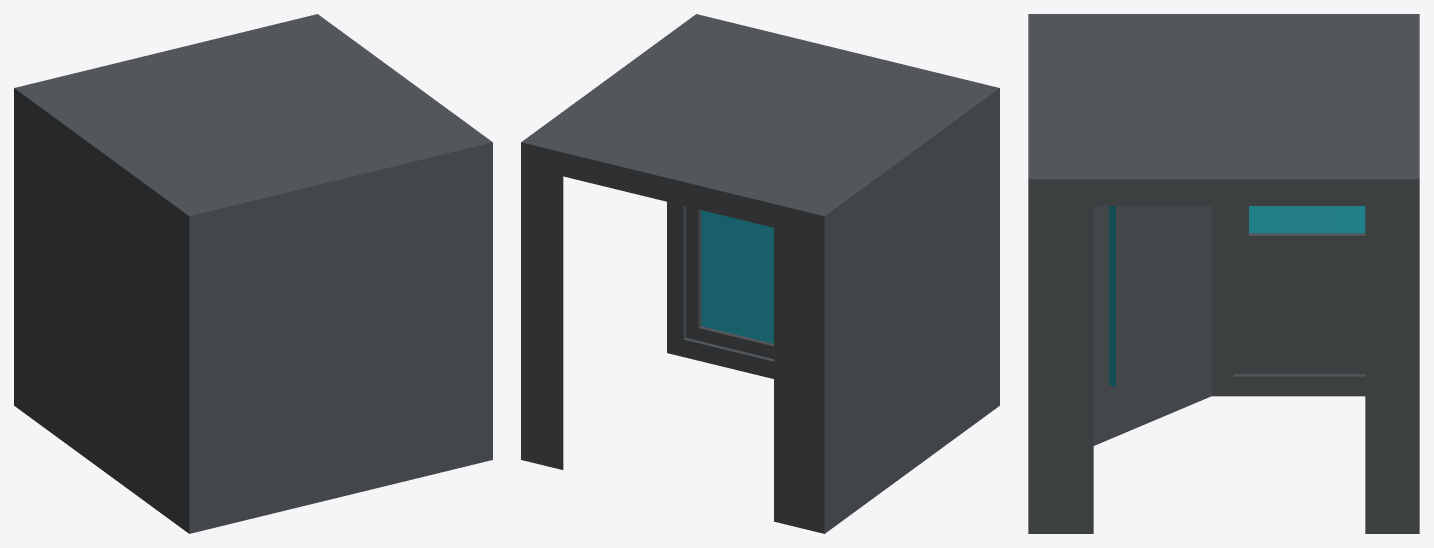
Rendered from EspacioContenidoScrollGiroBajoNI.gltf.
3 views of the same model, side by side, from view 1: azimuth 30°, elevation 25°; view 2: azimuth 150°, elevation 25°; view 3: azimuth 270°, elevation 25° (orthographic). The views are drawn at different scales.
Visible parts, largest first — view 1: Cubo.62; view 2: Cubo.62; view 3: Cubo.62.
Part boxes in pixels (bbox=[...]): Cubo.62: bbox=[14, 14, 492, 533]; Cubo.62: bbox=[521, 14, 999, 533]; Cubo.62: bbox=[1028, 14, 1419, 533].
Size of the model in its own units: 2 by 2 by 2.
Materials: 1 (1 with a texture image).
